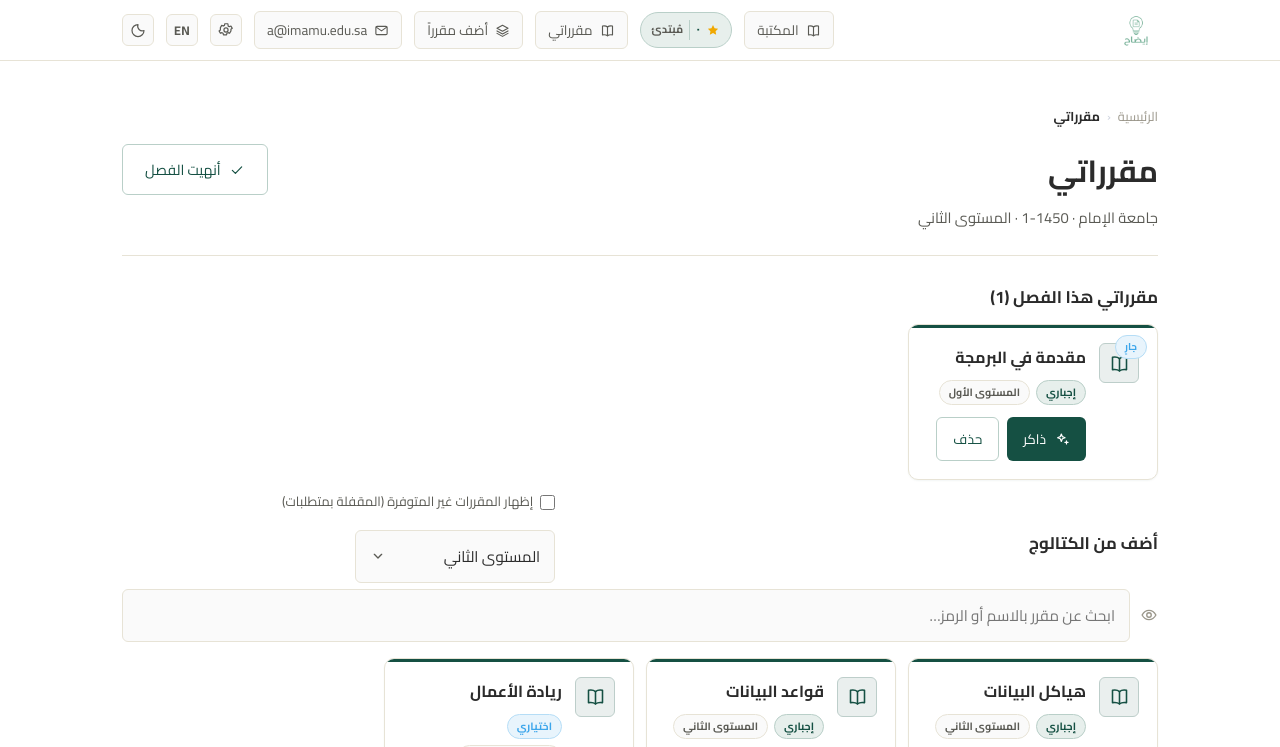
Test: البحث يفلتر الكتالوج فوراً بلا إعادة تحميل
Check: the heading "هياكل البيانات" is shown, box [984,676,1086,706]
Check: the heading "قواعد البيانات" is shown, box [726,676,824,706]
Type "هياكل" into the search field named "بحث المقررات" at (626, 615), box [122,589,1130,642]
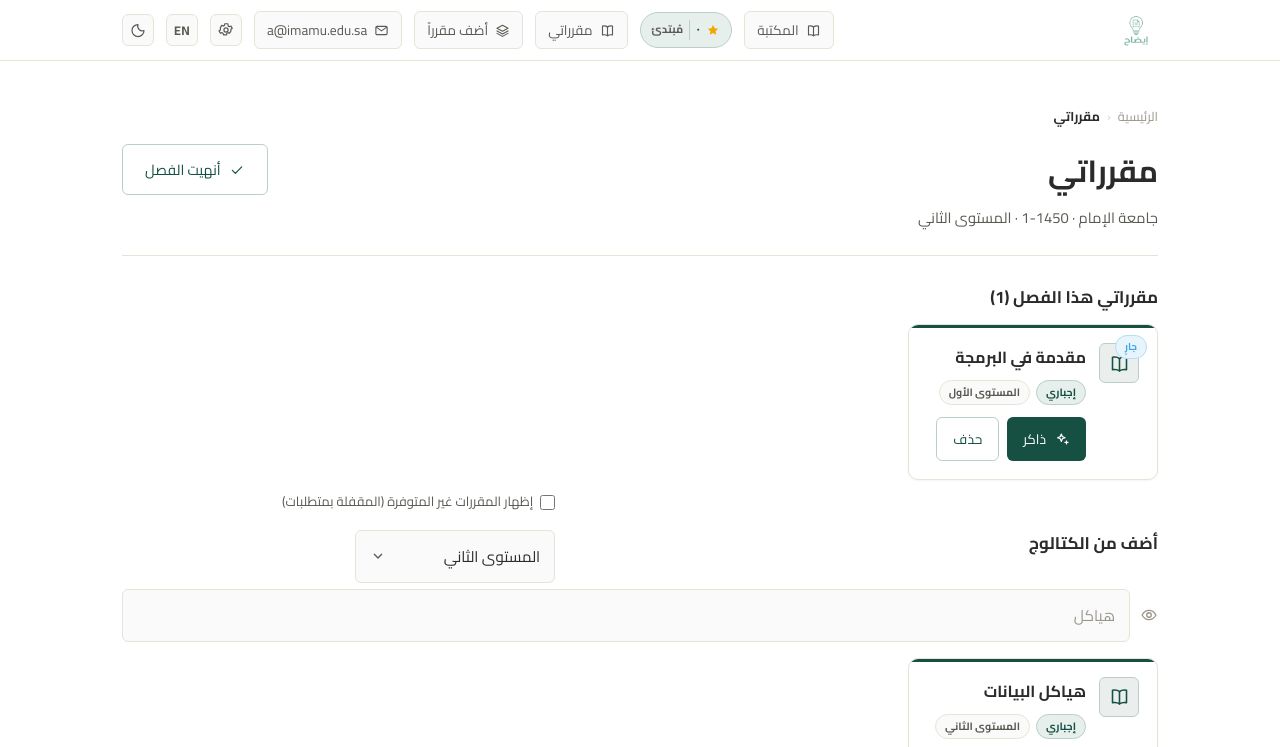
Check: the heading "هياكل البيانات" is shown, box [984,676,1086,706]
Check: the heading "قواعد البيانات" is gone
